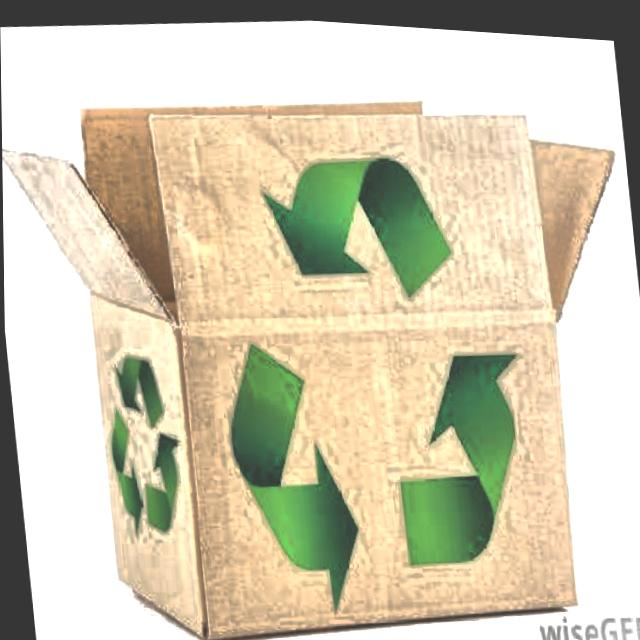Cardbox: (0, 18, 640, 640)
